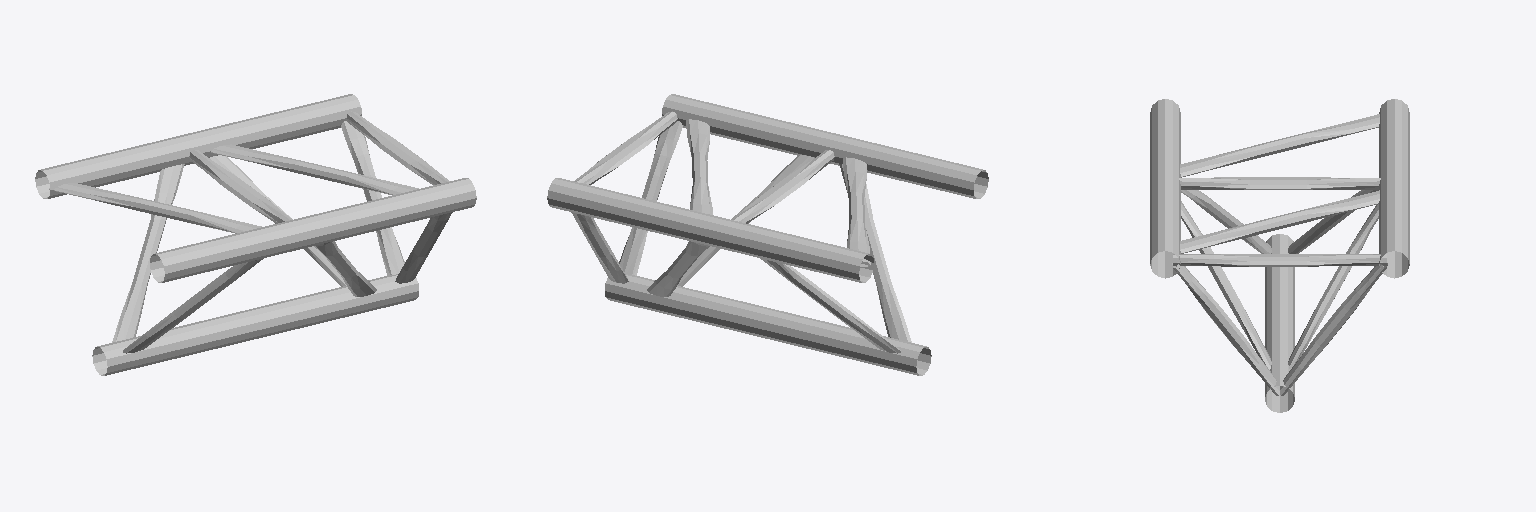
Rendered from track.obj.
3 renders of one model, left to right at view 1: azimuth 30°, elevation 25°; view 2: azimuth 150°, elevation 25°; view 3: azimuth 270°, elevation 25°, orthographic.
Visible parts, largest first — view 1: Normal_Track; view 2: Normal_Track; view 3: Normal_Track.
Part boxes in pixels (left/top/right/bottom): Normal_Track: left=35, top=94, right=476, bottom=375; Normal_Track: left=547, top=94, right=988, bottom=375; Normal_Track: left=1150, top=99, right=1409, bottom=412.
Size of the model in its own units: 1.89 by 0.9395 by 1.36.